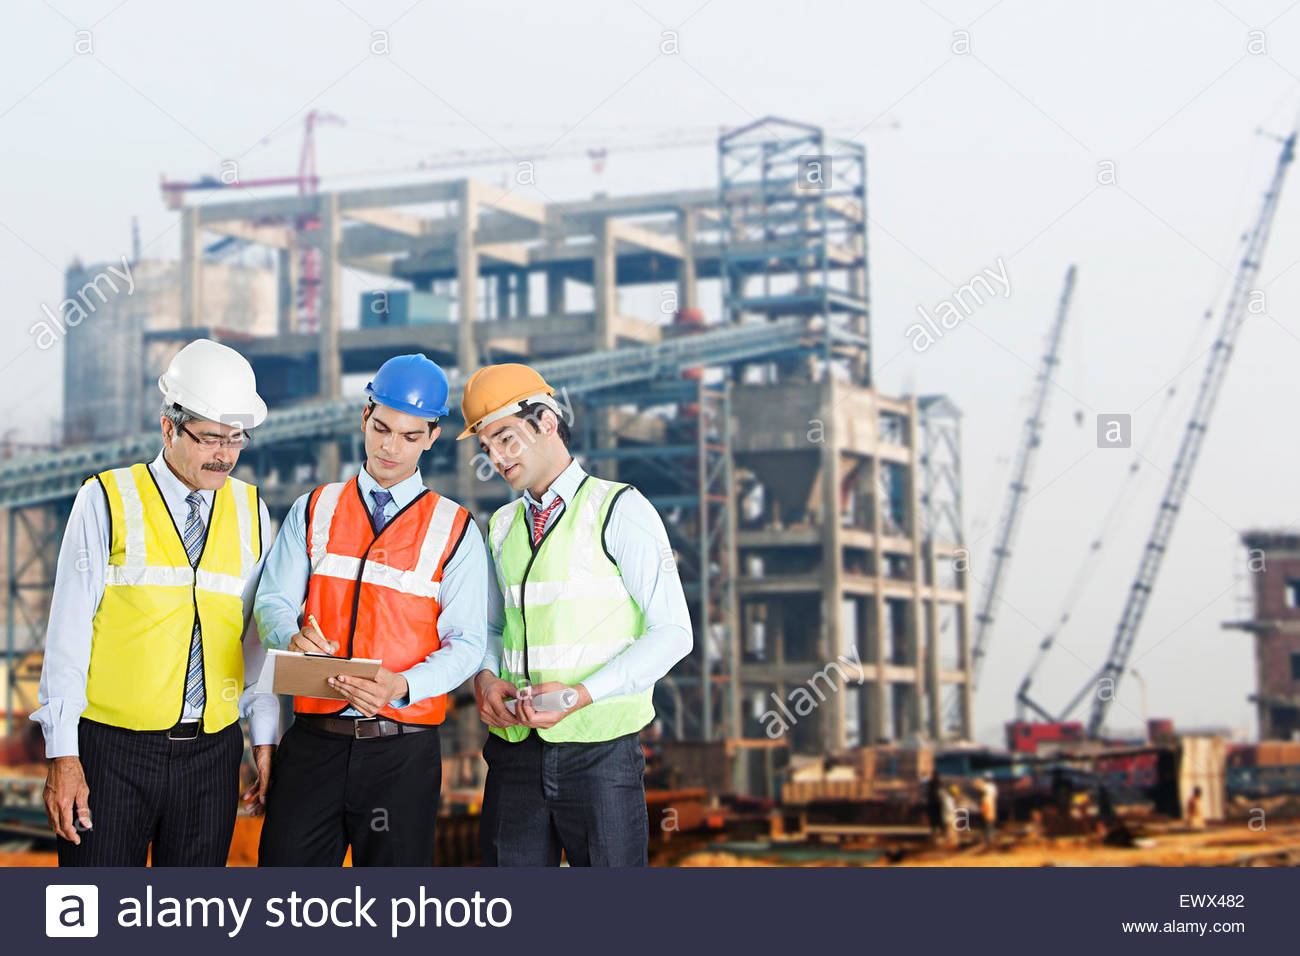casco: (155, 335, 272, 431), (454, 360, 558, 445), (360, 350, 452, 424)
